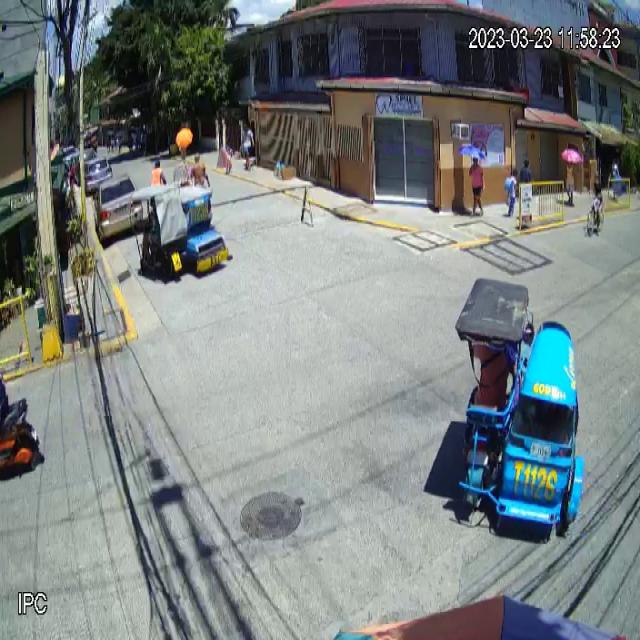Tricycle: (453, 277, 588, 531), (128, 182, 231, 280)
